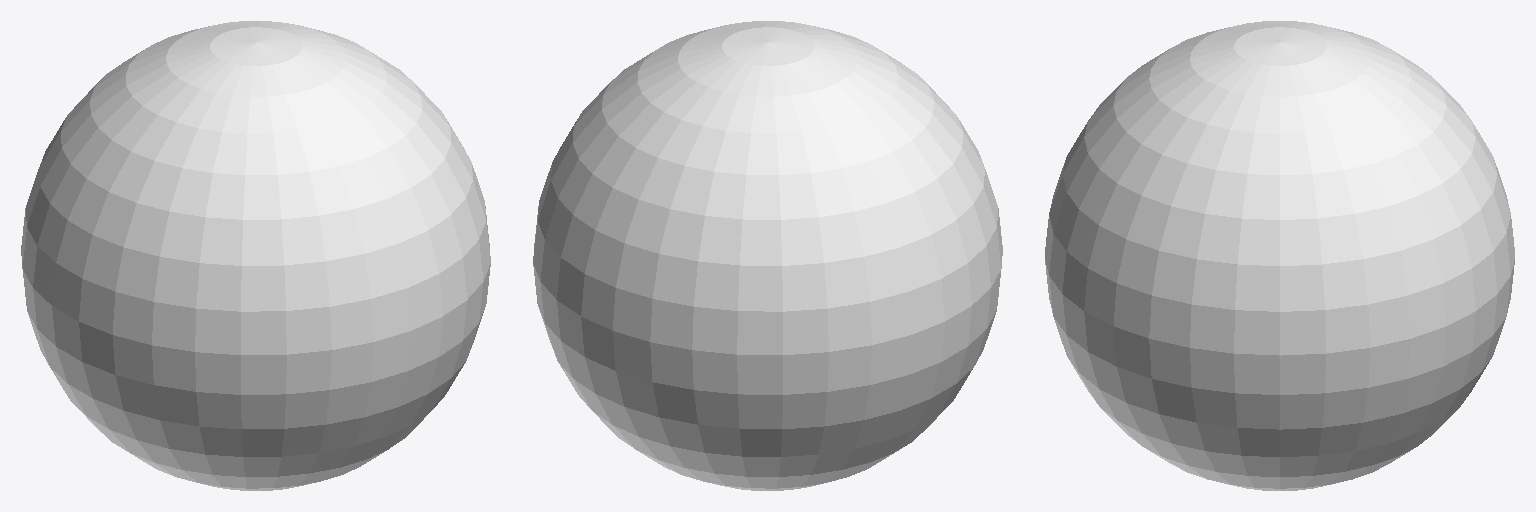
3 views of the same model, side by side, from view 1: azimuth 30°, elevation 25°; view 2: azimuth 150°, elevation 25°; view 3: azimuth 270°, elevation 25° (orthographic).
Visible parts, largest first — view 1: 球; view 2: 球; view 3: 球.
Part boxes in pixels (left/top/right/bottom): 球: left=21, top=21, right=490, bottom=490; 球: left=533, top=21, right=1002, bottom=490; 球: left=1045, top=21, right=1514, bottom=490.
Bounding box in the file's own units: 2 × 2 × 2.
Materials: 1 (1 with a texture image).